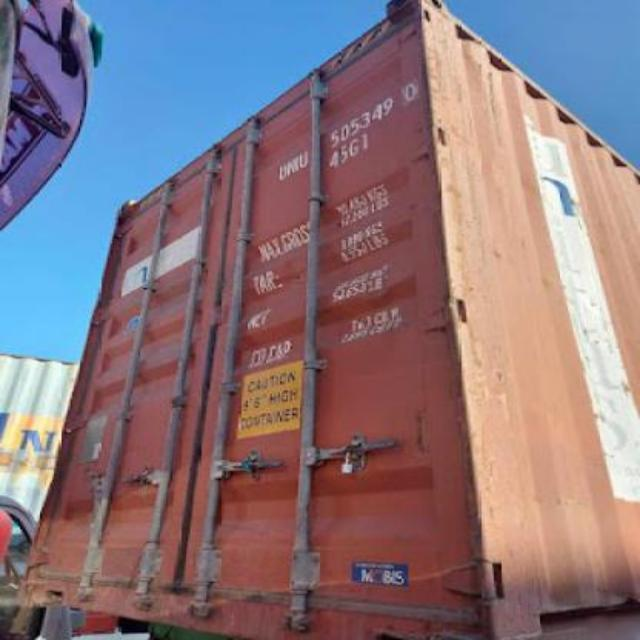0: (400, 83, 418, 101), (340, 124, 352, 142)
3: (360, 111, 372, 127)
4: (371, 103, 384, 121)
5: (346, 116, 362, 134), (328, 130, 340, 150)
9: (382, 97, 394, 115)
M: (288, 156, 300, 170)
N: (284, 159, 294, 177)
U: (296, 150, 312, 168), (274, 163, 288, 179)
